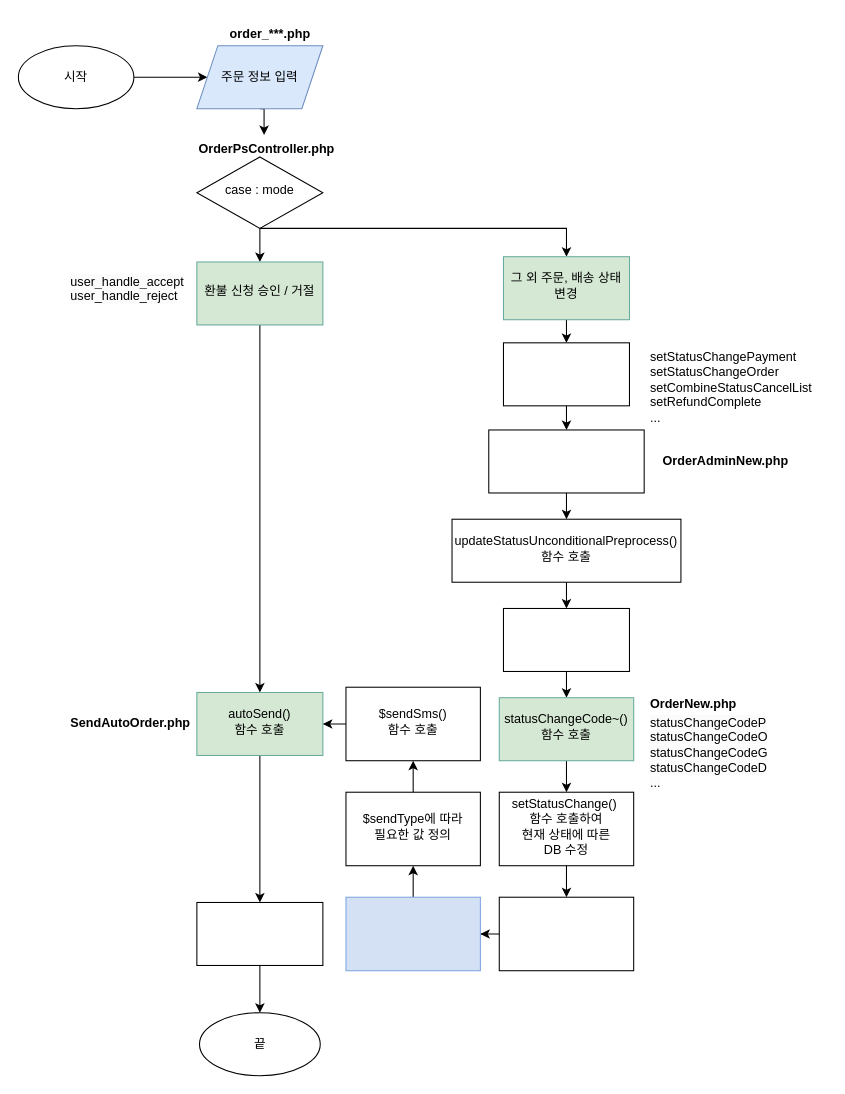
The diagram is 845 pixels wide and 1094 high, and some of its shapes have lost their labels. The shapes that lost their labels are listed below. From the top down, each one's centre as x and y in pixels, then its label:
At point (565, 374): "set~ 함수 실행".
At point (566, 461): "updateStatusPreprocess() 함수 호출".
At point (565, 639): "조건에 따른 상태 변경 가능 여부 확인".
At point (259, 933): "기본으로 필요한 값 정의 후 sms 전송".
At point (412, 933): "sendOrderInfoBySms() 함수 호출".
At point (566, 933): "sendOrderInfo() 함수 호출".
